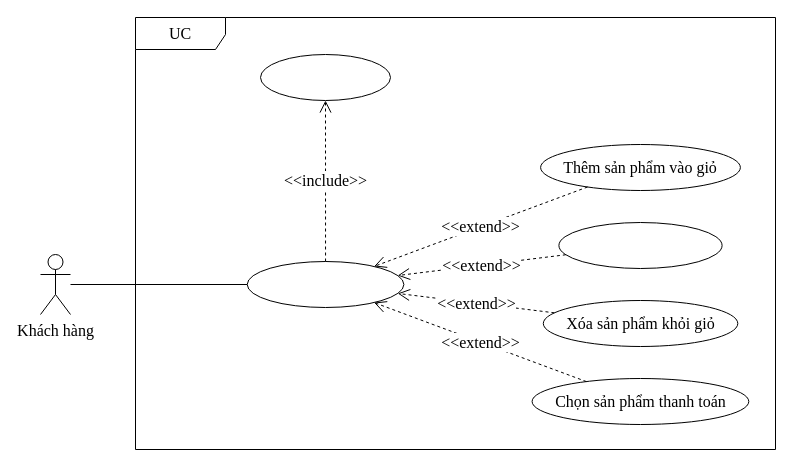
Image size: 793x467. Some labels were removed from this diagram. Here are the shapes that lost their labels. From the top down, the centre of each, then its label:
(325,77): Đăng nhập
(640,245): Cập nhật số lượng
(325,284): Quản lý giỏ hàng
